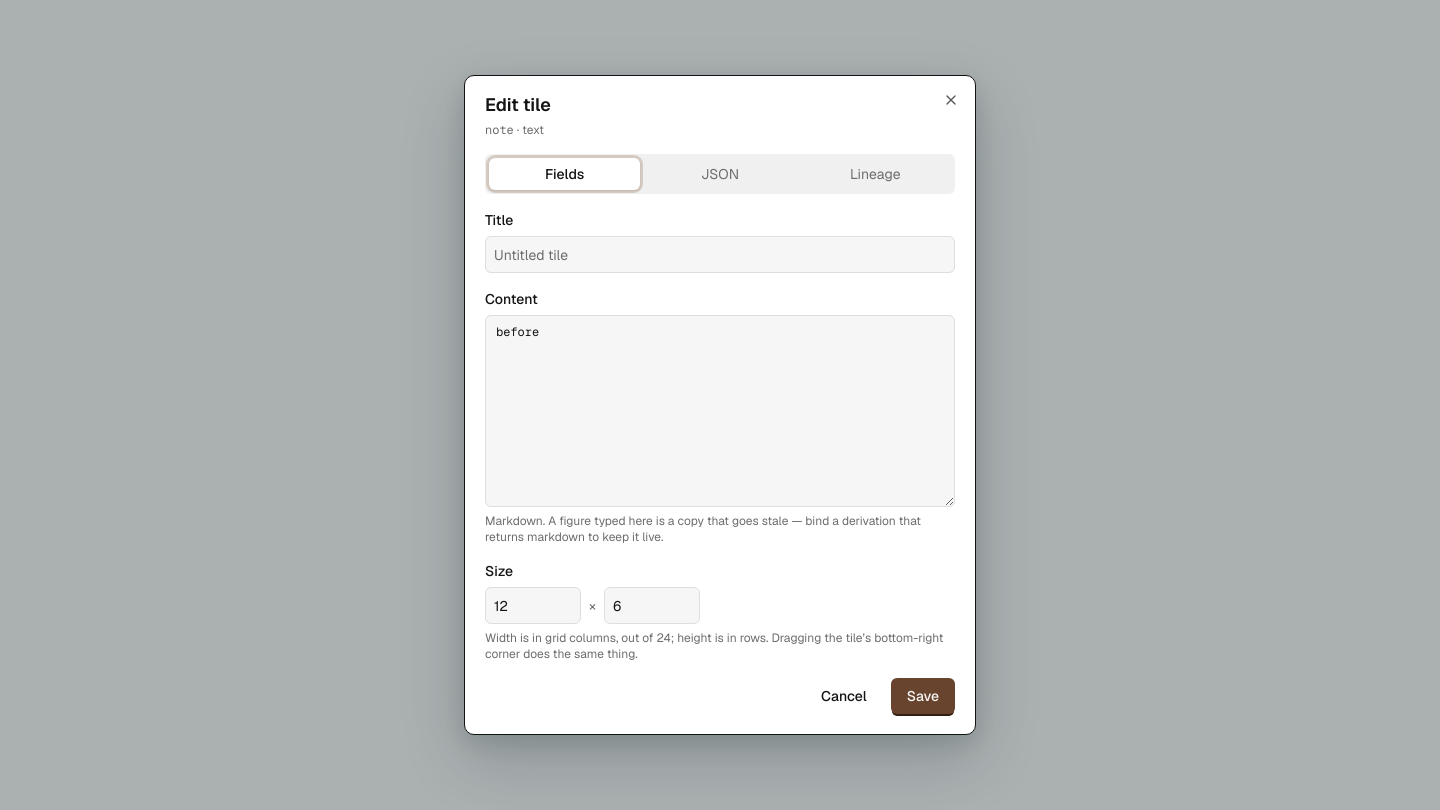
Test: TileEditor › keeps the dialog open with the server's reason when a save is refused
Click the button "Save": (923, 696) [891,678,955,714]
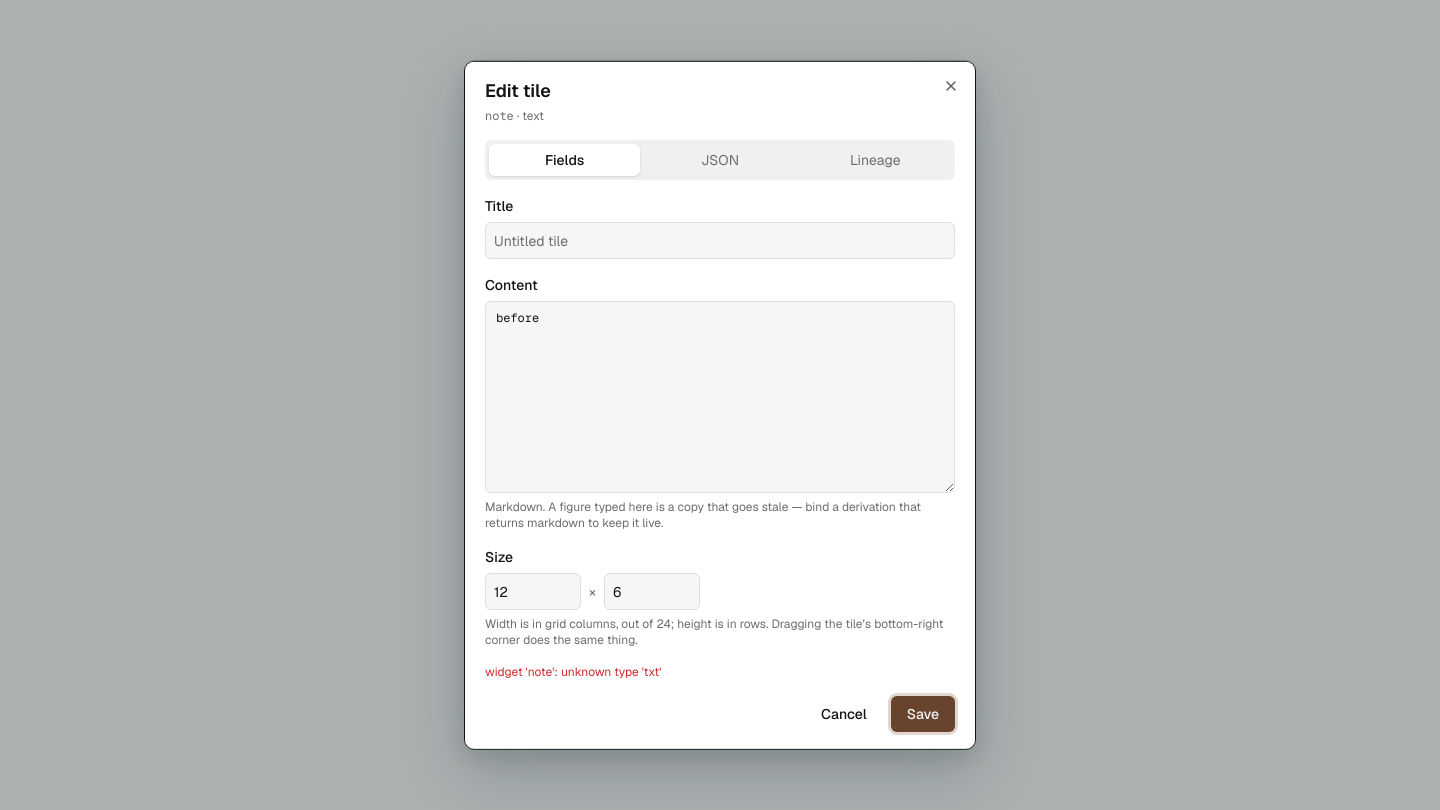
Expected: the dialog is shown, [464,61,976,749]
Expected: the message shows "unknown type 'txt'", [485,664,661,680]
